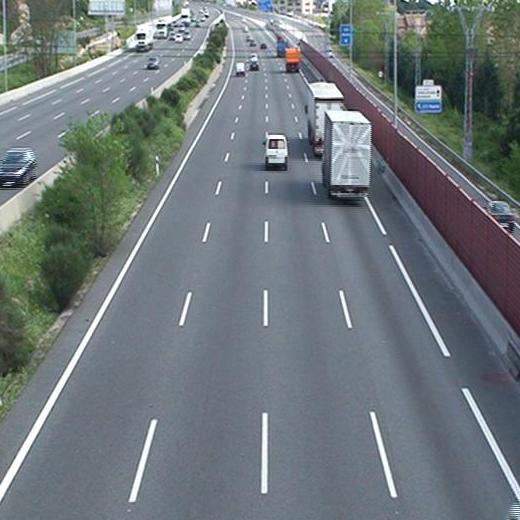car: (249, 60, 260, 72)
small-truck: (284, 48, 300, 72)
truck: (322, 111, 371, 203), (302, 83, 346, 157)
van: (263, 135, 289, 170), (234, 61, 245, 76)
